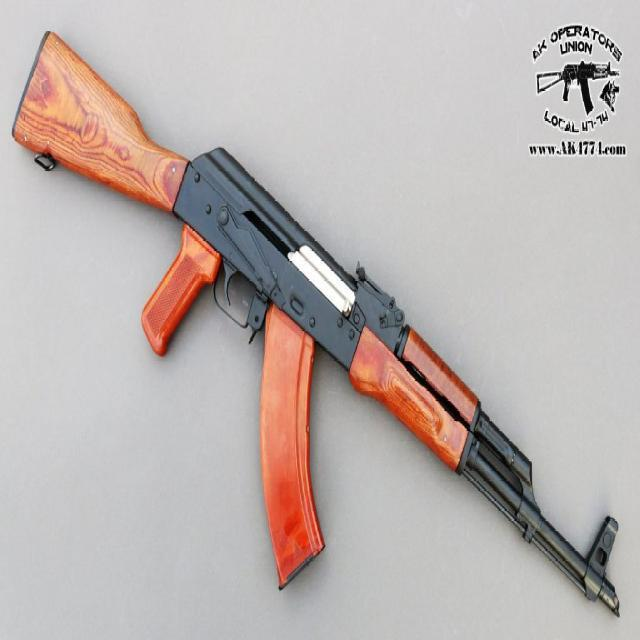ak: (10, 28, 625, 620)
